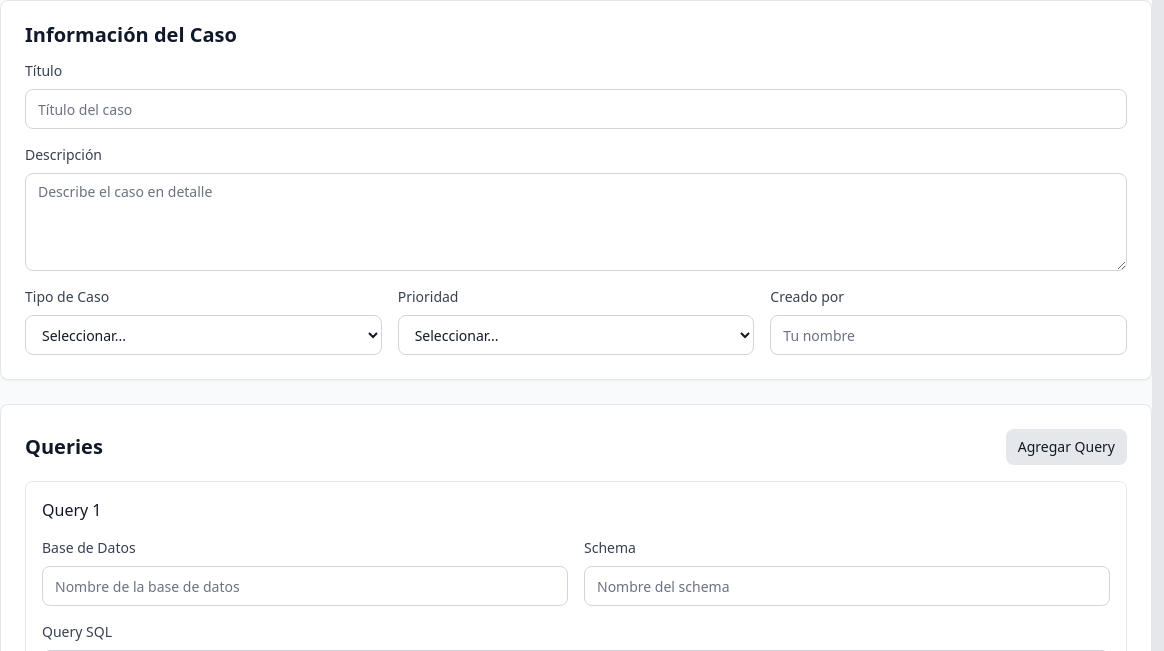
CaseForm › removes query field when clicking remove button
# Add second query
Click the button "Agregar Query".
click(1066, 447)  # box [1006,429,1127,465]
(page scrolled)
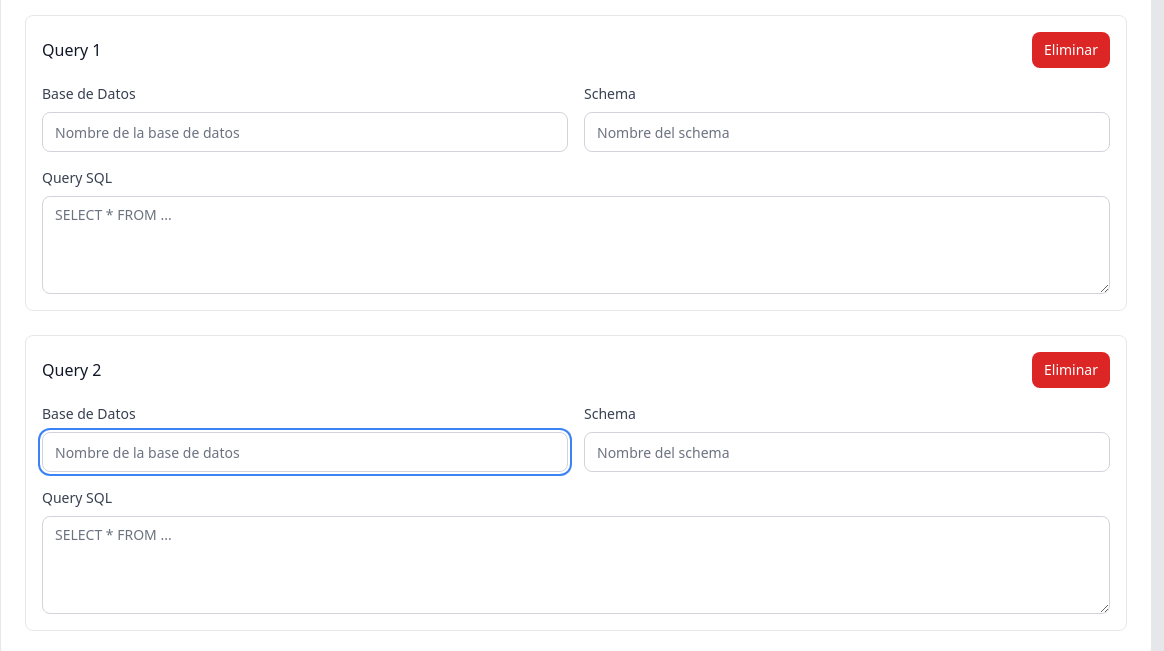
Now the heading "Query 2" is shown, box [42,358,102,382]
# Remove second query
Click the 2nd button "Eliminar".
click(1071, 370)  # box [1032,352,1110,388]
(page scrolled)
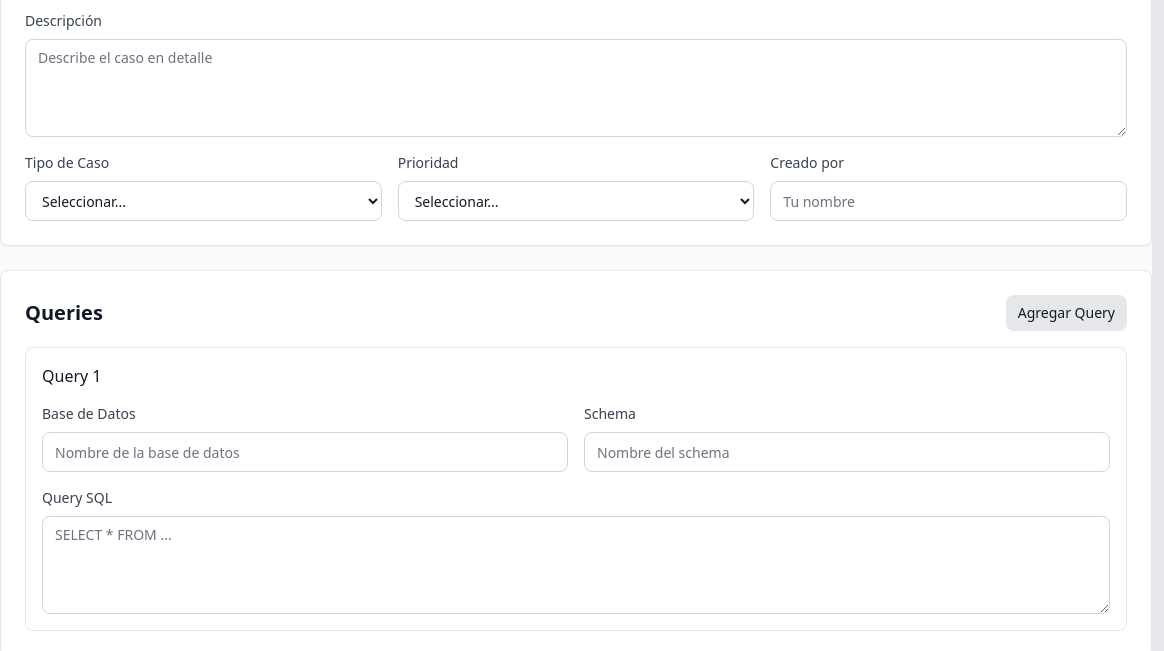
Now the heading "Query 2" is gone
